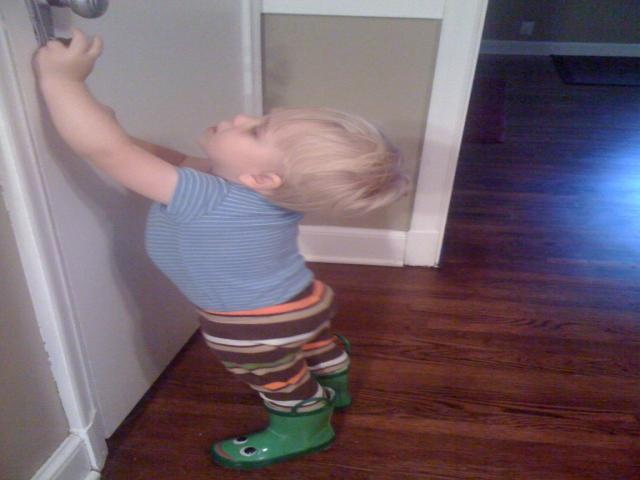Door-handle: (22, 0, 123, 47)
